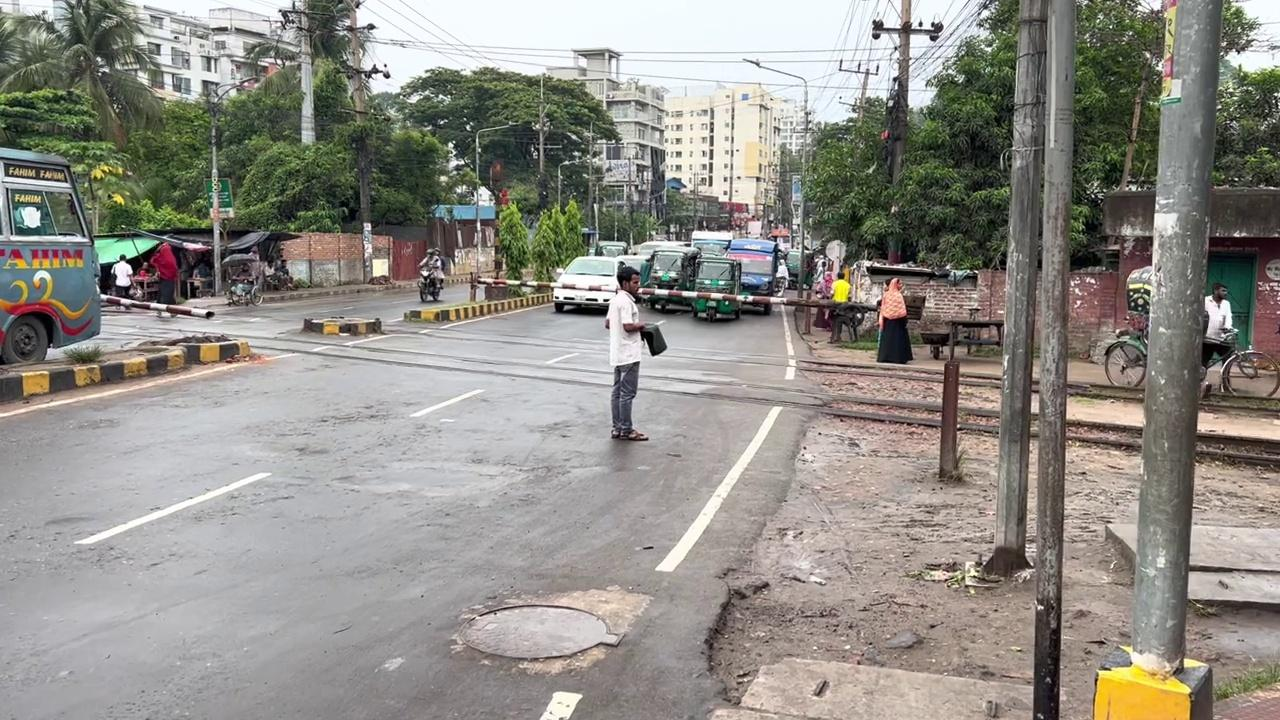Car: (0, 334, 251, 405)
Curb: (417, 261, 444, 302)
Fence: (604, 266, 648, 440), (1199, 282, 1234, 398), (875, 277, 914, 363)
Garbage: (1128, 0, 1223, 677), (984, 0, 1048, 576), (1032, 1, 1076, 718), (871, 0, 942, 264), (344, 1, 374, 283), (100, 294, 215, 319)
Motorcycle: (98, 296, 1277, 470)
Railroad-crossing: (494, 201, 530, 280)
Rickshaw: (0, 146, 102, 364)
